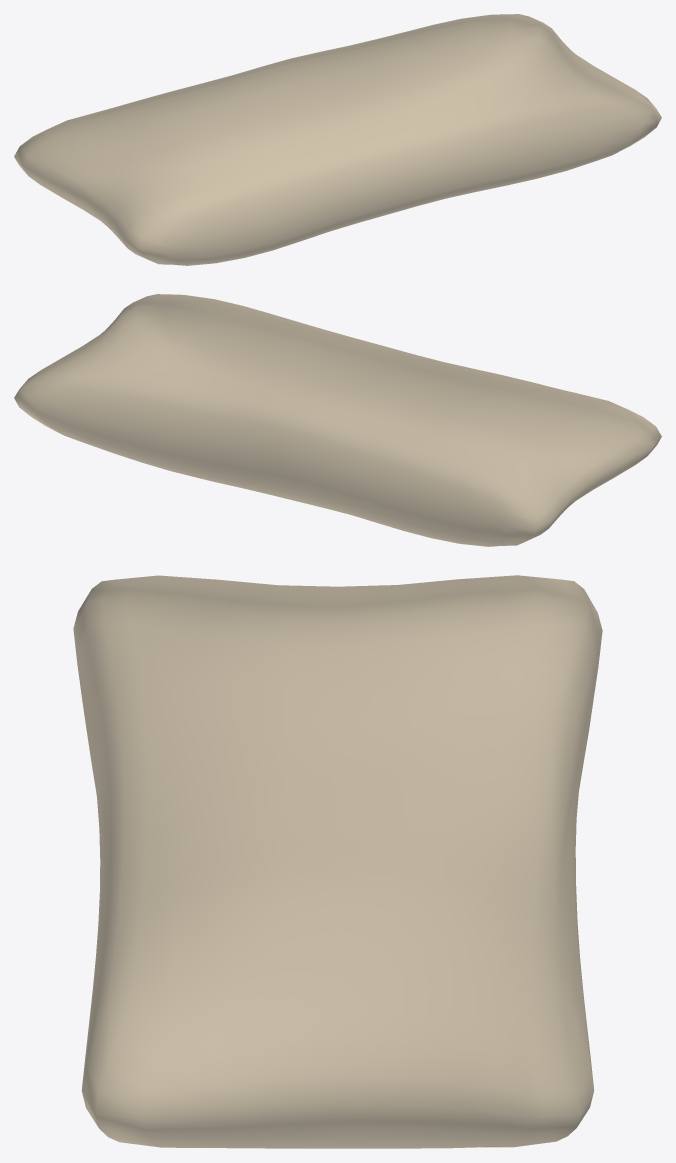
The model's file is SM_Pillow_04_Unity.fbx.
3 renders of one model, top to bottom at view 1: azimuth 30°, elevation 25°; view 2: azimuth 150°, elevation 25°; view 3: azimuth 270°, elevation 25°, orthographic. The views are drawn at different scales.
Parts seen in each view (by area): view 1: SM_Pillow_04_low; view 2: SM_Pillow_04_low; view 3: SM_Pillow_04_low.
Boxes of the visible parts, bbox=[...] form: SM_Pillow_04_low: bbox=[14, 14, 661, 265]; SM_Pillow_04_low: bbox=[14, 294, 661, 546]; SM_Pillow_04_low: bbox=[73, 575, 602, 1148].
Size of the model in its own units: 90.76 by 20.81 by 39.2.
